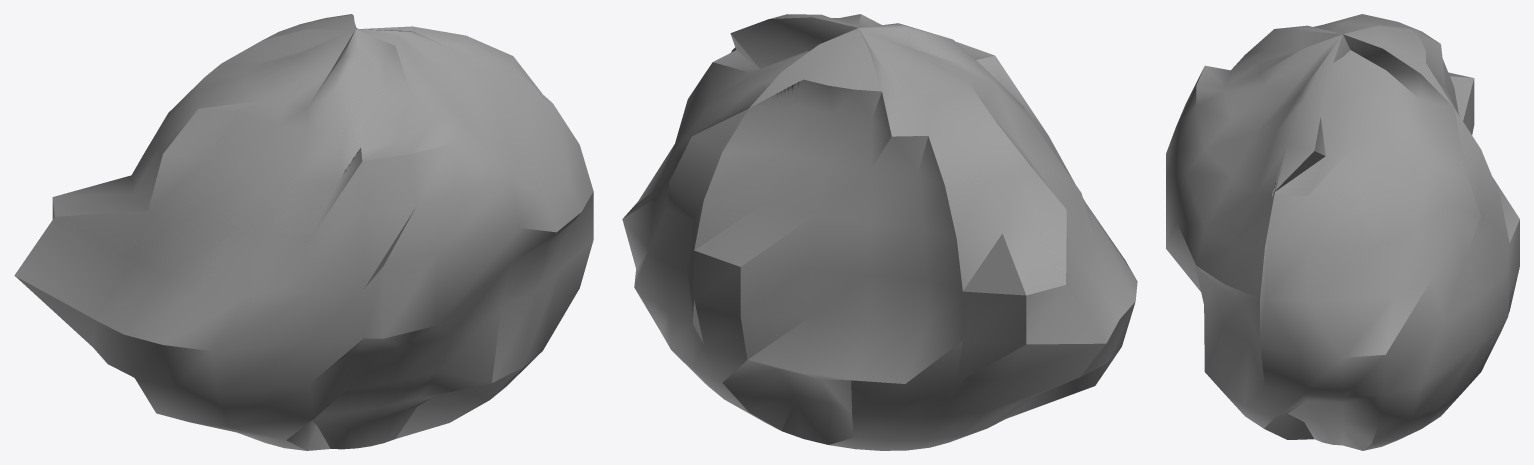
The model's file is asteroid.glb.
3 renders of one model, left to right at view 1: azimuth 30°, elevation 25°; view 2: azimuth 150°, elevation 25°; view 3: azimuth 270°, elevation 25°, orthographic. The views are drawn at different scales.
Parts seen in each view (by area): view 1: Sphère; view 2: Sphère; view 3: Sphère.
Part boxes in pixels (x1,y1,x2,y2): Sphère: (14,14,593,450); Sphère: (622,14,1137,450); Sphère: (1166,14,1519,450).
Size of the model in its own units: 266 by 200 by 164.
1 material, 1 textured.
